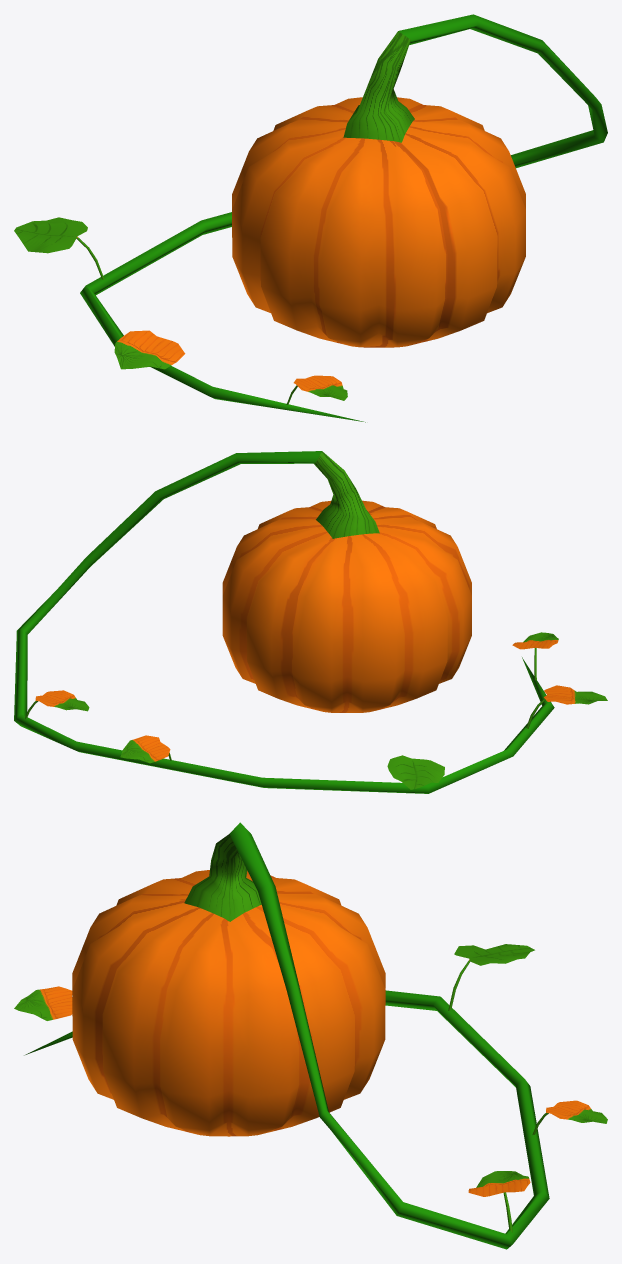
The model's file is Pumpkin Stage 1.fbx.
The picture shows the model from 3 angles, top to bottom: view 1: azimuth 30°, elevation 25°; view 2: azimuth 150°, elevation 25°; view 3: azimuth 270°, elevation 25°; orthographic projection. The views are drawn at different scales.
Parts seen in each view (by area): view 1: Pumpkin_Full_Grown, Pumpkin_Vines_Full_Grown, polySurface90, polySurface86, polySurface91; view 2: Pumpkin_Full_Grown, Pumpkin_Vines_Full_Grown, polySurface86, polySurface88, polySurface90, polySurface89, polySurface91; view 3: Pumpkin_Full_Grown, Pumpkin_Vines_Full_Grown, polySurface91, polySurface86, polySurface89, polySurface88.
Part boxes in pixels (left/top/right/bottom): Pumpkin_Full_Grown: left=232, top=31, right=525, bottom=347; Pumpkin_Vines_Full_Grown: left=80, top=14, right=607, bottom=422; polySurface90: left=114, top=330, right=185, bottom=369; polySurface86: left=14, top=217, right=104, bottom=279; polySurface91: left=286, top=375, right=347, bottom=404; Pumpkin_Full_Grown: left=222, top=451, right=471, bottom=712; Pumpkin_Vines_Full_Grown: left=14, top=451, right=554, bottom=793; polySurface86: left=387, top=755, right=444, bottom=789; polySurface88: left=120, top=735, right=171, bottom=763; polySurface90: left=526, top=685, right=607, bottom=728; polySurface89: left=25, top=690, right=89, bottom=718; polySurface91: left=512, top=632, right=558, bottom=680; Pumpkin_Full_Grown: left=72, top=834, right=385, bottom=1136; Pumpkin_Vines_Full_Grown: left=24, top=822, right=549, bottom=1249; polySurface91: left=14, top=986, right=72, bottom=1020; polySurface86: left=448, top=944, right=534, bottom=1010; polySurface89: left=468, top=1171, right=530, bottom=1232; polySurface88: left=532, top=1100, right=607, bottom=1134.
Bounding box in the file's own units: 0.3858 × 0.18 × 0.3149.
2 materials, 1 textured.
